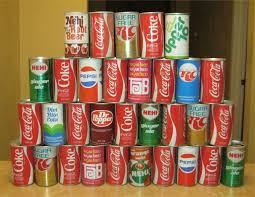Aluminum can: (20, 53, 52, 103), (212, 90, 240, 142), (166, 12, 196, 58), (6, 140, 34, 188), (59, 8, 88, 53), (18, 100, 46, 146), (32, 142, 61, 186), (98, 144, 128, 186), (114, 8, 140, 56), (91, 8, 115, 58), (140, 11, 164, 60), (148, 144, 174, 188), (64, 103, 86, 150), (59, 143, 82, 186), (82, 140, 105, 183), (196, 144, 219, 186), (44, 98, 64, 145), (174, 144, 196, 186), (188, 102, 210, 144), (224, 142, 245, 184), (128, 145, 149, 185)
